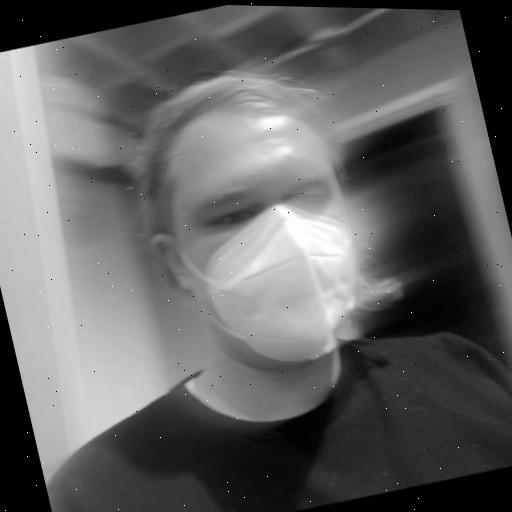mask: (90, 17, 424, 438)
